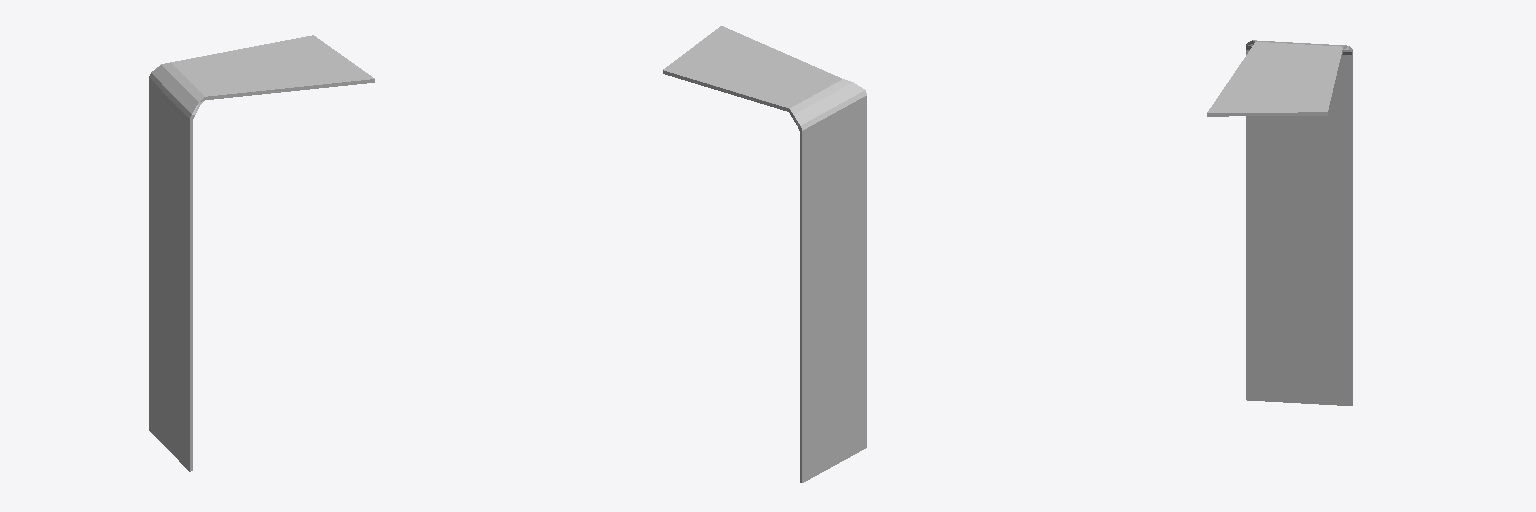
The model's file is MainIslandWaterfall.obj.
3 renders of one model, left to right at view 1: azimuth 30°, elevation 25°; view 2: azimuth 150°, elevation 25°; view 3: azimuth 270°, elevation 25°, orthographic.
Parts seen in each view (by area): view 1: Cube.001_Cube.002; view 2: Cube.001_Cube.002; view 3: Cube.001_Cube.002.
Part boxes in pixels (x1,y1,x2,y2): Cube.001_Cube.002: (149, 35, 374, 471); Cube.001_Cube.002: (663, 26, 866, 482); Cube.001_Cube.002: (1207, 40, 1352, 405).
Size of the model in its own units: 95.9 by 203 by 73.02.